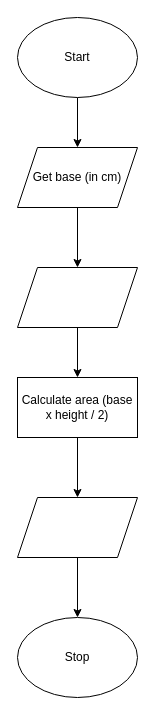
This 155x715 diagram has some shape labels left out. The centre of each missing label's shape, as x and y in pixels:
"Get height (in cm)" belongs at (x=77, y=297).
"Show area in cm 2" belongs at (x=77, y=527).
